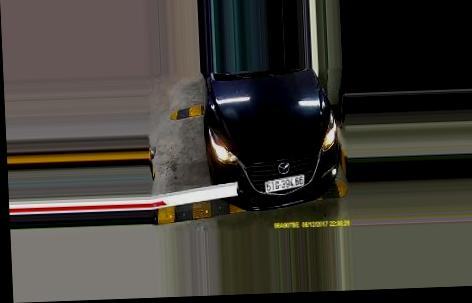License_Plate: (263, 176, 306, 192)
